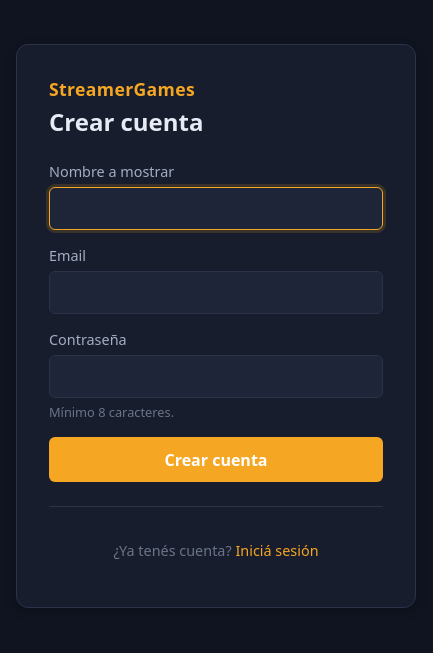
Test: Register page › on 409 email_in_use, shows the error message
Type "Claudio" into the field labelled "Nombre a mostrar" at (216, 209), box [49, 187, 383, 230]
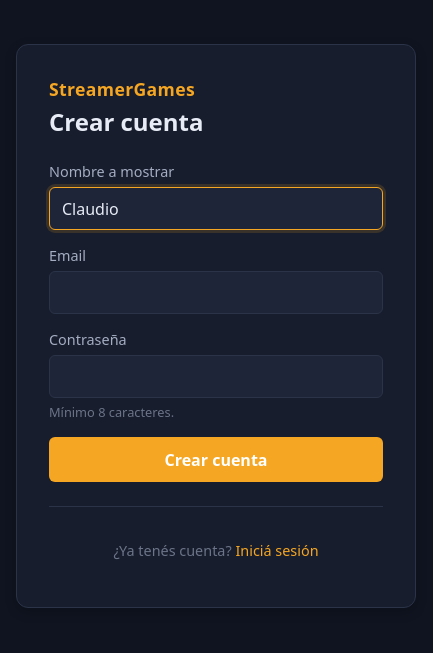
Type "s@x.com" into the field labelled "Email" at (216, 292), box [49, 271, 383, 314]
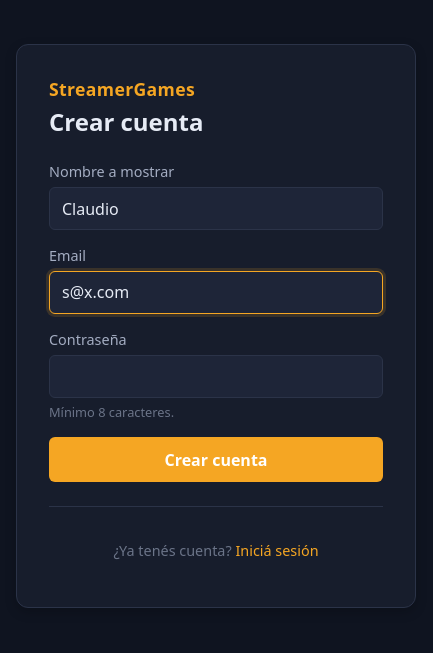
Type "hunter22x" into the password field labelled "Contraseña Mínimo 8 caracteres." at (216, 376), box [49, 355, 383, 398]
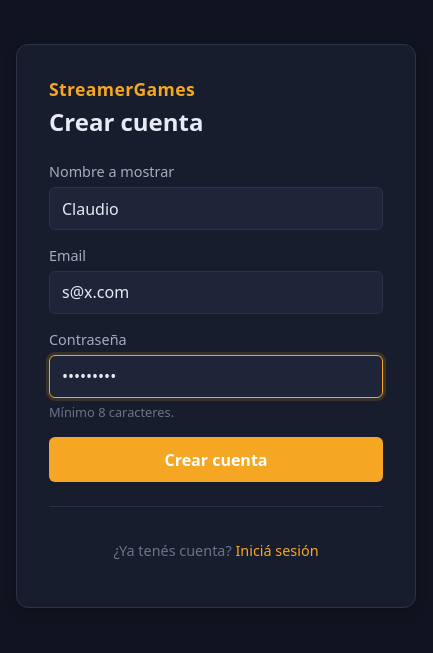
Click the button "Crear cuenta" at (216, 460), box [49, 437, 383, 482]
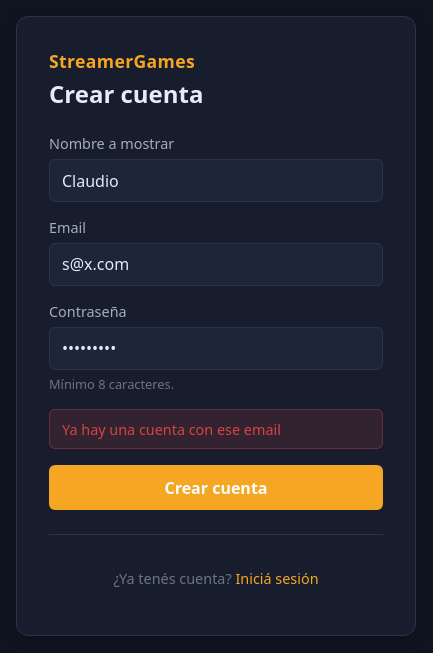
Result: the message shows "Ya hay una cuenta" at [62, 420, 281, 439]
